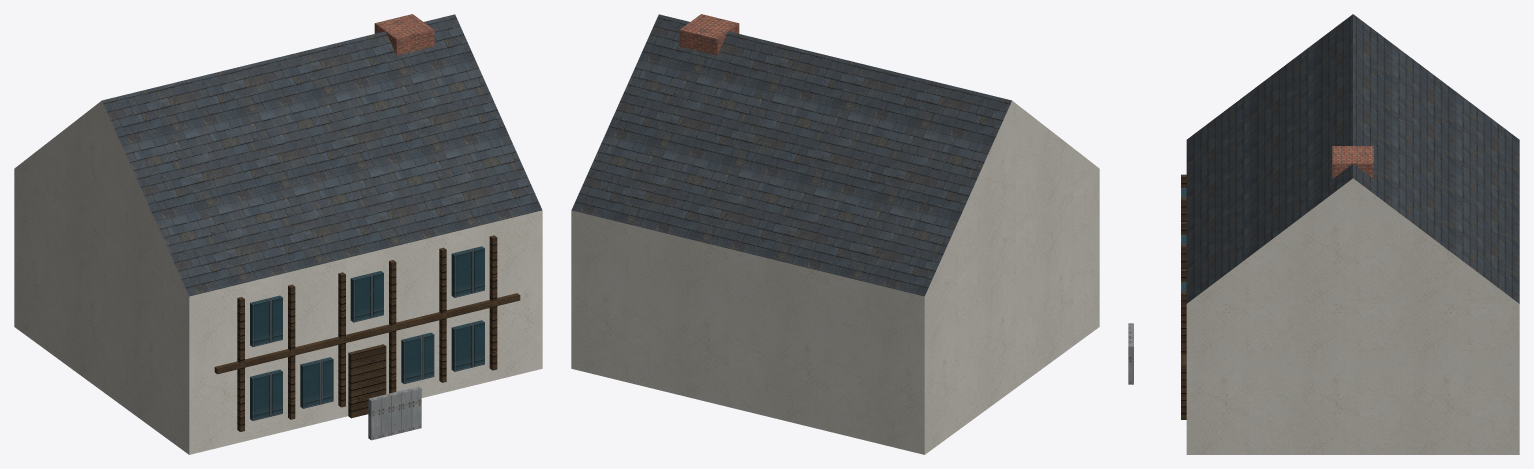
Rendered from tudor-house_lod0.gltf.
3 views of the same model, side by side, from view 1: azimuth 30°, elevation 25°; view 2: azimuth 150°, elevation 25°; view 3: azimuth 270°, elevation 25° (orthographic). The views are drawn at different scales.
Parts seen in each view (by area): view 1: tudor-house_roof, tudor-house_walls, tudor-house_gable_ends, tudor-house_fen_18-timber-siding_0_t, tudor-house_fen_07-glass-curtain-blue_1, tudor-house__gate, tudor-house__chimney; view 2: tudor-house_walls, tudor-house_roof, tudor-house_gable_ends, tudor-house__chimney; view 3: tudor-house_roof, tudor-house_walls, tudor-house_gable_ends, tudor-house_fen_18-timber-siding_0_t, tudor-house__chimney.
Boxes of the visible parts, x1=… form: tudor-house_roof: x1=102, y1=14, x2=542, y2=296; tudor-house_walls: x1=14, y1=169, x2=542, y2=454; tudor-house_gable_ends: x1=14, y1=100, x2=188, y2=295; tudor-house_fen_18-timber-siding_0_t: x1=214, y1=235, x2=520, y2=431; tudor-house_fen_07-glass-curtain-blue_1: x1=250, y1=246, x2=484, y2=420; tudor-house__gate: x1=368, y1=386, x2=421, y2=440; tudor-house__chimney: x1=374, y1=14, x2=434, y2=55; tudor-house_walls: x1=571, y1=169, x2=1099, y2=454; tudor-house_roof: x1=571, y1=14, x2=1011, y2=296; tudor-house_gable_ends: x1=925, y1=100, x2=1099, y2=295; tudor-house__chimney: x1=679, y1=14, x2=739, y2=55; tudor-house_roof: x1=1186, y1=14, x2=1519, y2=303; tudor-house_walls: x1=1186, y1=304, x2=1519, y2=454; tudor-house_gable_ends: x1=1187, y1=178, x2=1518, y2=303; tudor-house_fen_18-timber-siding_0_t: x1=1181, y1=174, x2=1186, y2=419; tudor-house__chimney: x1=1332, y1=146, x2=1373, y2=178.
Bounding box in the file's own units: 14 × 11 × 14.1.
